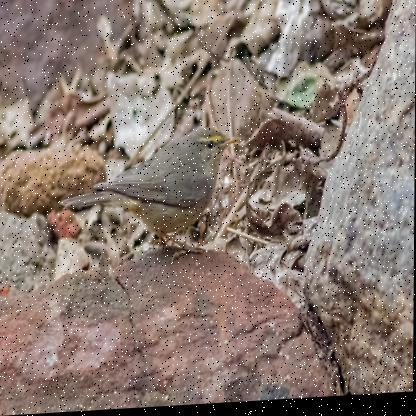Burung: (61, 126, 244, 268)
